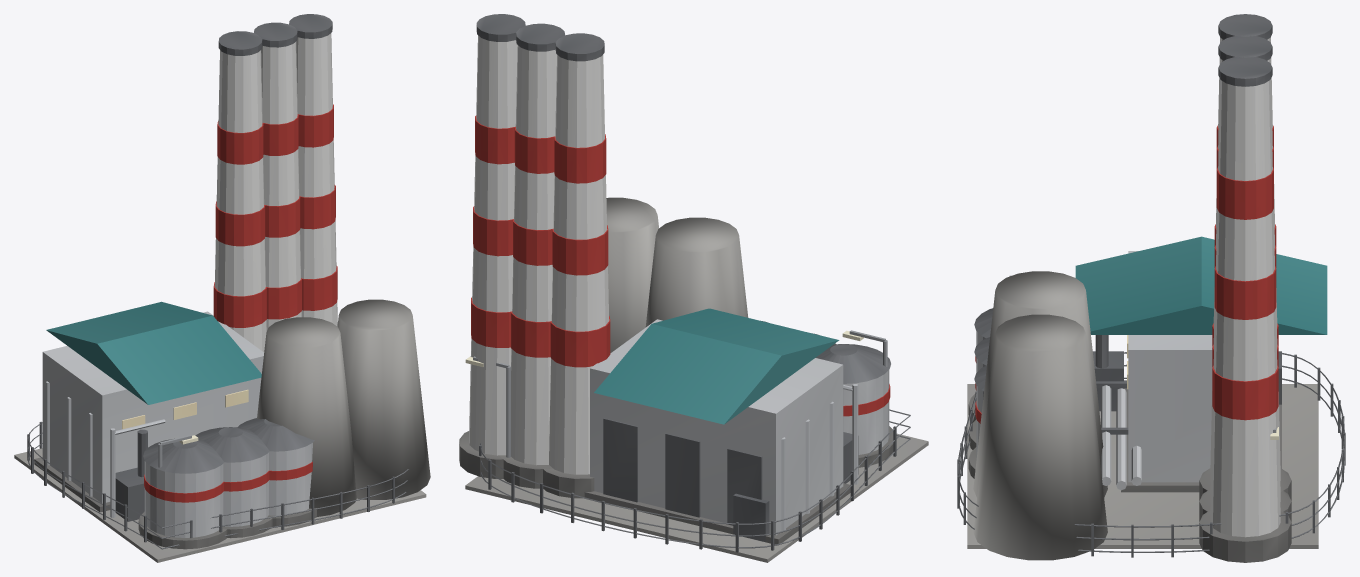
The model's file is Power_P3.fbx.
The picture shows the model from 3 angles, left to right: view 1: azimuth 30°, elevation 25°; view 2: azimuth 150°, elevation 25°; view 3: azimuth 270°, elevation 25°; orthographic projection. The views are drawn at different scales.
Parts seen in each view (by area): view 1: Power.Hall, Power.CoolingTowers, Power.Stack0, Power.Stack2, Power.Stack1, Power.Tank0, Power.Tank1, Power.Tank2, Power.Yard, Power.Switchyard, Power.Fence; view 2: Power.Hall, Power.Stack0, Power.Stack1, Power.Stack2, Power.CoolingTowers, Power.Yard, Power.Tank0, Power.Fence, Power.Switchyard, Power.Lamp1; view 3: Power.CoolingTowers, Power.Stack2, Power.Hall, Power.Yard, Power.Fence, Power.Pipes, Power.Stack1, Power.Stack0, Power.Switchyard, Power.Tank2, Power.Tank0, Power.Tank1.
Boxes of the visible parts, x1,y1,x2,y2 form: Power.Hall: [34, 301, 263, 512]; Power.CoolingTowers: [257, 299, 430, 516]; Power.Stack0: [213, 31, 266, 352]; Power.Stack2: [289, 14, 337, 326]; Power.Stack1: [254, 22, 301, 331]; Power.Tank0: [138, 438, 227, 549]; Power.Tank1: [195, 427, 272, 538]; Power.Tank2: [238, 418, 316, 526]; Power.Yard: [14, 448, 426, 562]; Power.Switchyard: [46, 381, 165, 521]; Power.Fence: [27, 421, 408, 549]; Power.Hall: [584, 308, 850, 545]; Power.Stack0: [543, 33, 610, 498]; Power.Stack1: [499, 23, 564, 488]; Power.Stack2: [459, 14, 525, 478]; Power.CoolingTowers: [606, 197, 748, 353]; Power.Yard: [465, 433, 928, 562]; Power.Tank0: [815, 344, 893, 467]; Power.Fence: [479, 409, 910, 552]; Power.Switchyard: [733, 384, 858, 542]; Power.Lamp1: [465, 356, 510, 457]; Power.CoolingTowers: [973, 271, 1107, 560]; Power.Stack2: [1199, 56, 1291, 562]; Power.Hall: [1075, 236, 1327, 492]; Power.Yard: [967, 384, 1318, 548]; Power.Fence: [957, 352, 1345, 557]; Power.Pipes: [1096, 381, 1141, 490]; Power.Stack1: [1199, 35, 1291, 521]; Power.Stack0: [1199, 14, 1291, 500]; Power.Switchyard: [1092, 335, 1281, 411]; Power.Tank2: [968, 365, 986, 478]; Power.Tank0: [968, 308, 993, 422]; Power.Tank1: [968, 337, 989, 449].
Bounding box in the file's own units: 2982 × 3621 × 2653.
